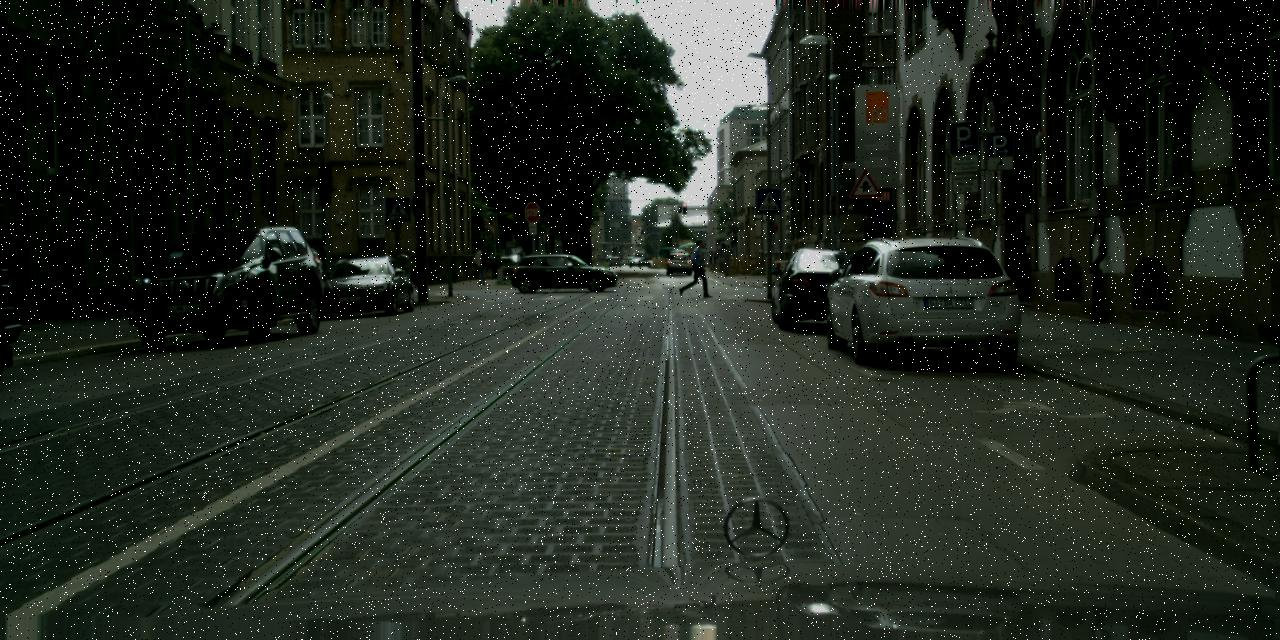ped: (685, 239, 707, 294), (790, 238, 809, 288), (474, 246, 490, 284), (708, 252, 718, 274)
